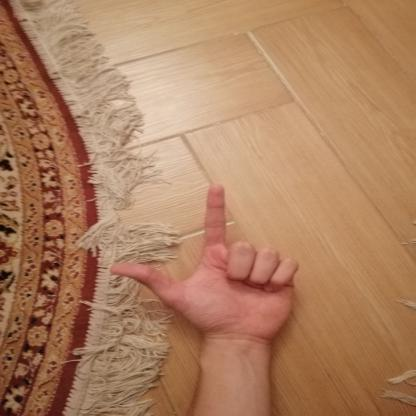LAAM: (96, 176, 312, 348)
